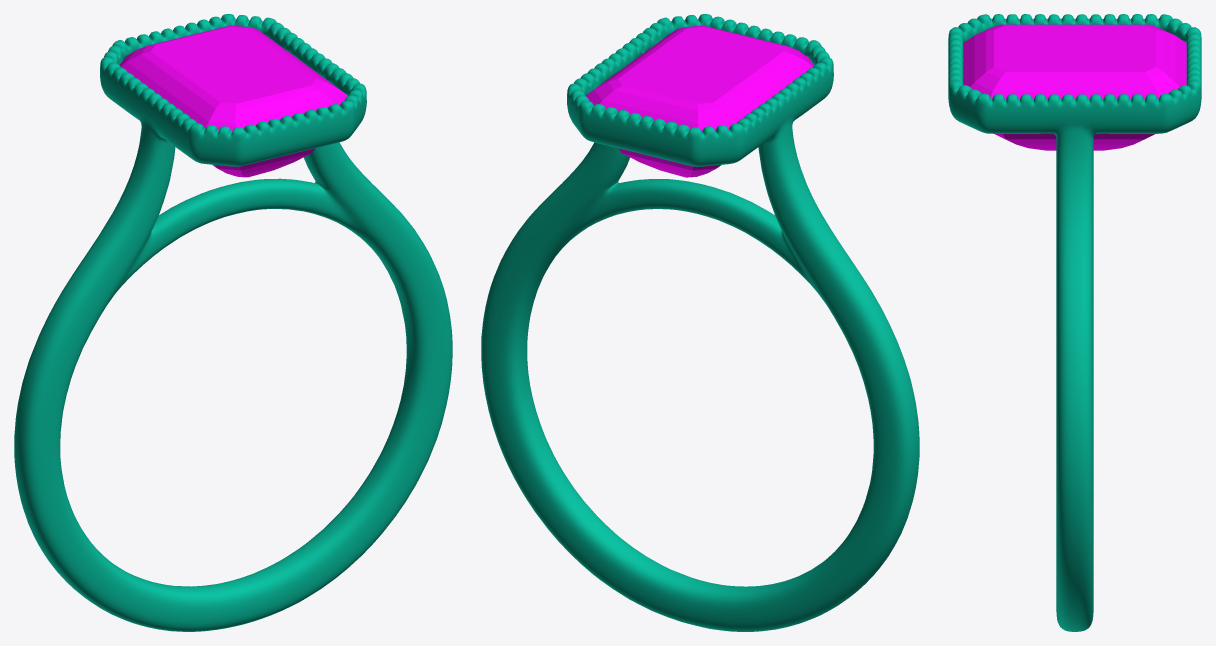
Rendered from BE1D27B5_EM_200ct_RENDER.glb.
The picture shows the model from 3 angles, left to right: view 1: azimuth 30°, elevation 25°; view 2: azimuth 150°, elevation 25°; view 3: azimuth 270°, elevation 25°; orthographic projection.
Visible parts, largest first — view 1: Metal 01, CS_Diamond_Emerald; view 2: Metal 01, CS_Diamond_Emerald; view 3: Metal 01, CS_Diamond_Emerald.
Part boxes in pixels (x1,y1,x2,y2): Metal 01: (14,14,452,631); CS_Diamond_Emerald: (119,25,347,177); Metal 01: (481,14,919,631); CS_Diamond_Emerald: (586,25,814,177); Metal 01: (948,14,1201,631); CS_Diamond_Emerald: (963,24,1186,150).
Bounding box in the file's own units: 20.09 × 24.87 × 10.2.
